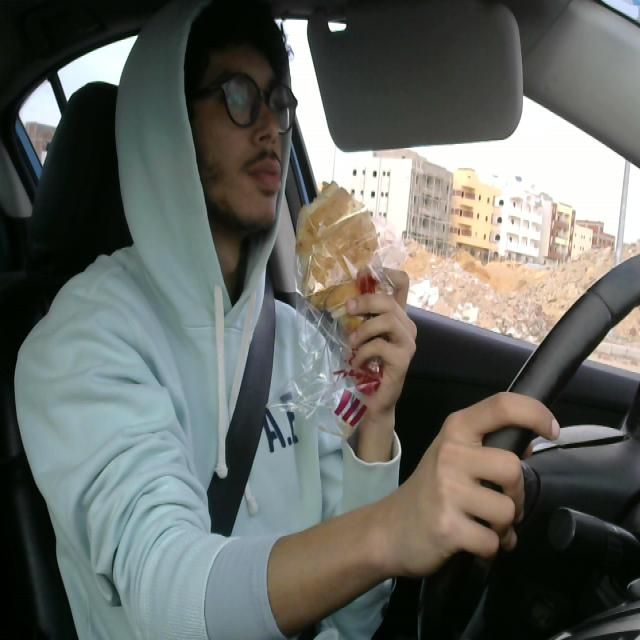eating: (293, 176, 386, 355)
